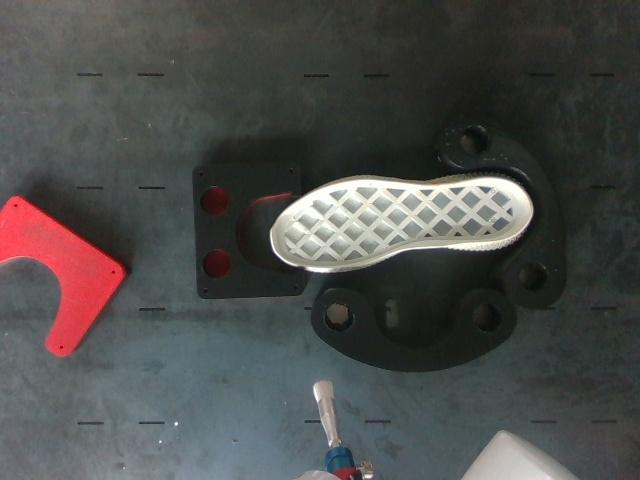shoes: (272, 178, 531, 267)
